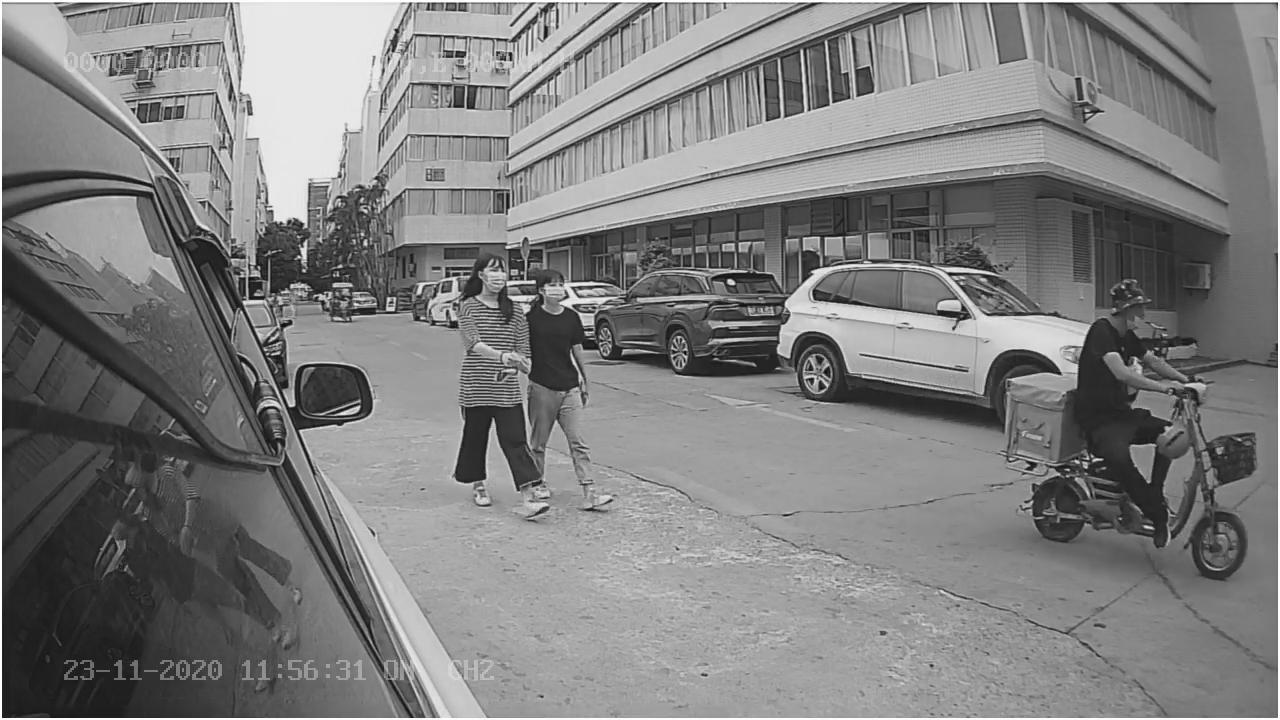person: (447, 251, 542, 517), (526, 265, 621, 515), (1073, 276, 1160, 418)
